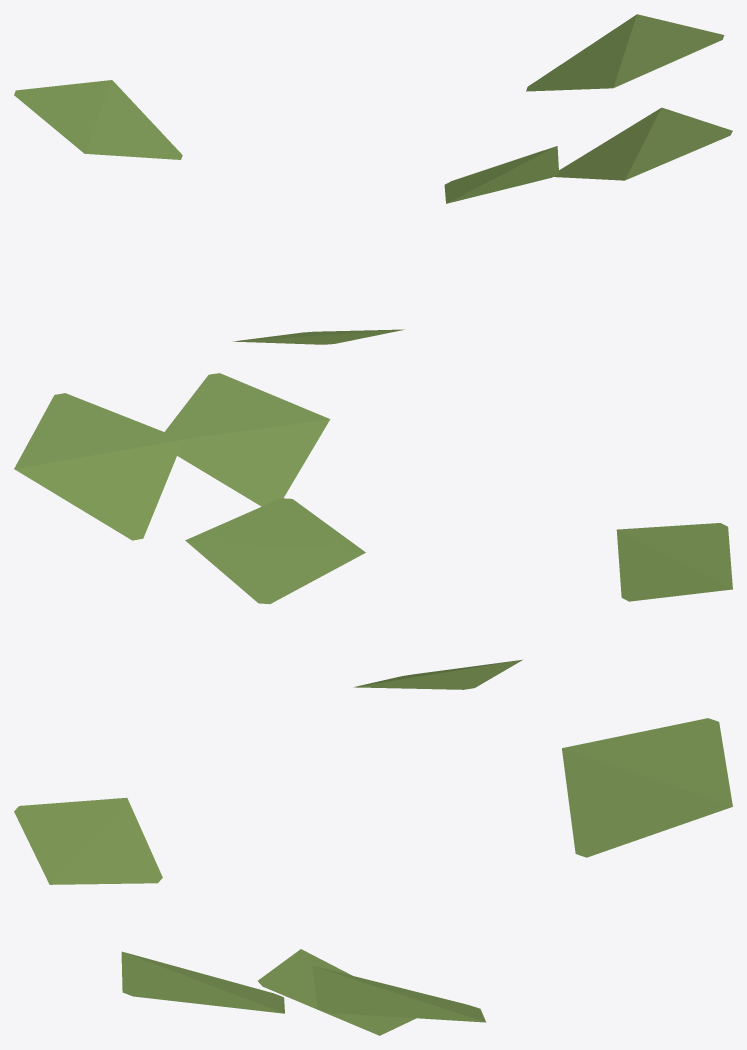
Rendered from floor_lod1.glb.
3 views of the same model, one above another, from view 1: azimuth 30°, elevation 25°; view 2: azimuth 150°, elevation 25°; view 3: azimuth 270°, elevation 25° (orthographic). The views are drawn at different scales.
Parts seen in each view (by area): view 1: Leaves; view 2: Leaves; view 3: Leaves.
Part boxes in pixels (<box>): Leaves: <box>14,14,732,344</box>; Leaves: <box>14,373,732,689</box>; Leaves: <box>14,718,732,1035</box>.
Size of the model in its own units: 0.4867 by 0.1049 by 0.4243.
